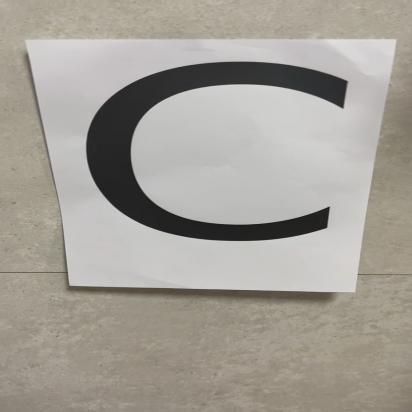seat: (33, 48, 368, 291)
